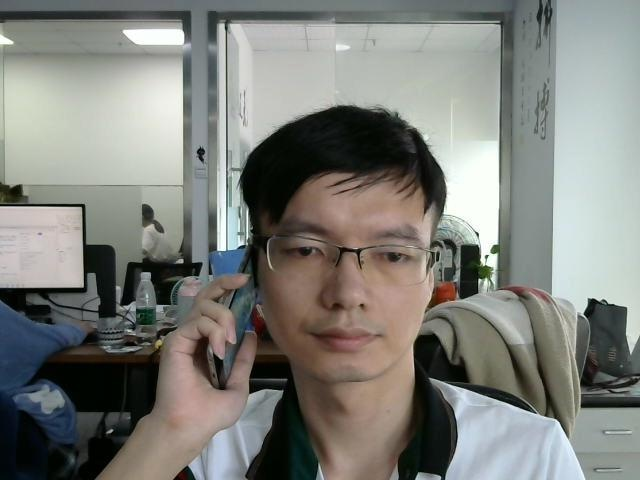hand: (163, 272, 257, 418)
